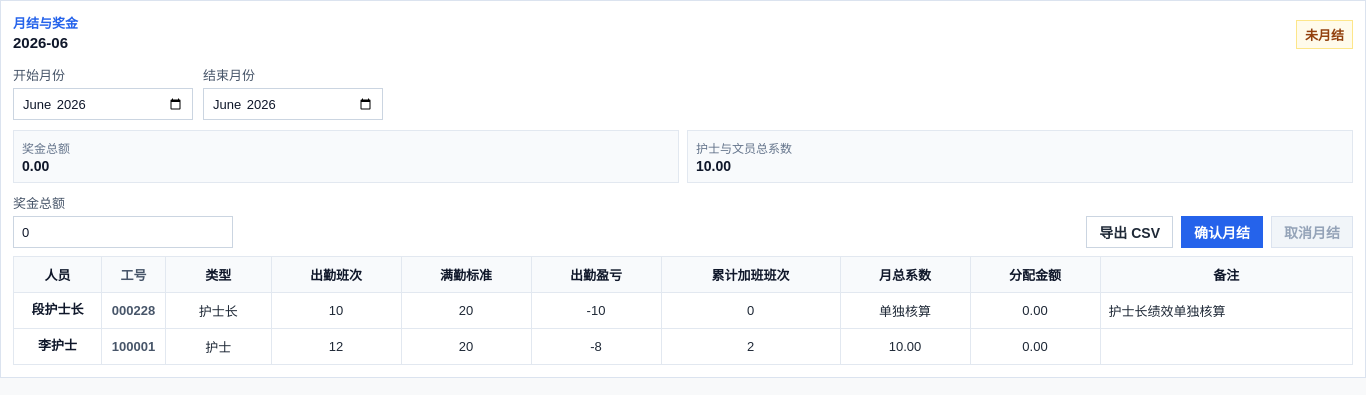
BonusSettlementPanel › previews an unsettled month after entering the bonus pool
This screenshot has width=1366, height=395.
Replace the text in the number field with test id "bonus-pool-input" with "1000": (123, 232) top-left (13, 216), bottom-right (233, 248)
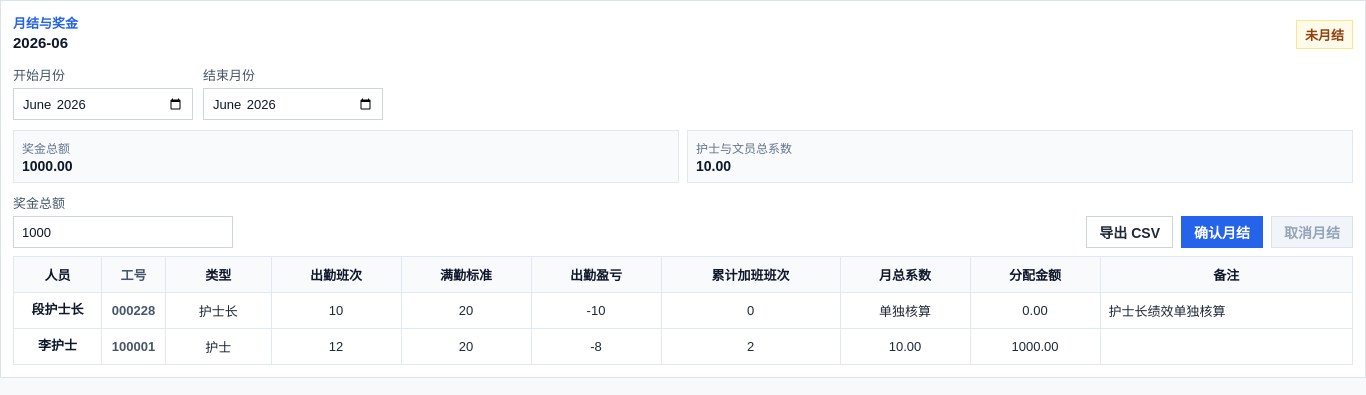
expect the text "2026-06" is shown: met, box top-left (13, 34), bottom-right (68, 51)
expect the text "1000.00" is shown: met, box top-left (22, 158), bottom-right (73, 174)
